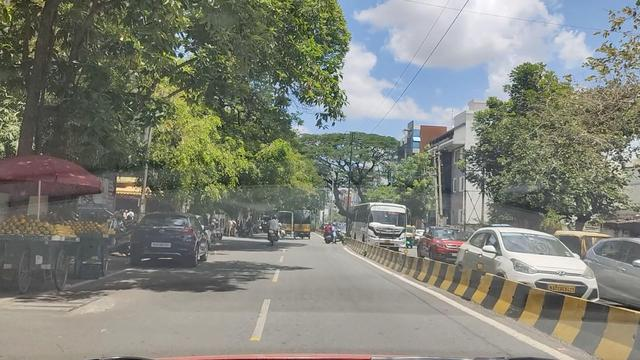LMV: (138, 209, 202, 263), (266, 214, 284, 243)
